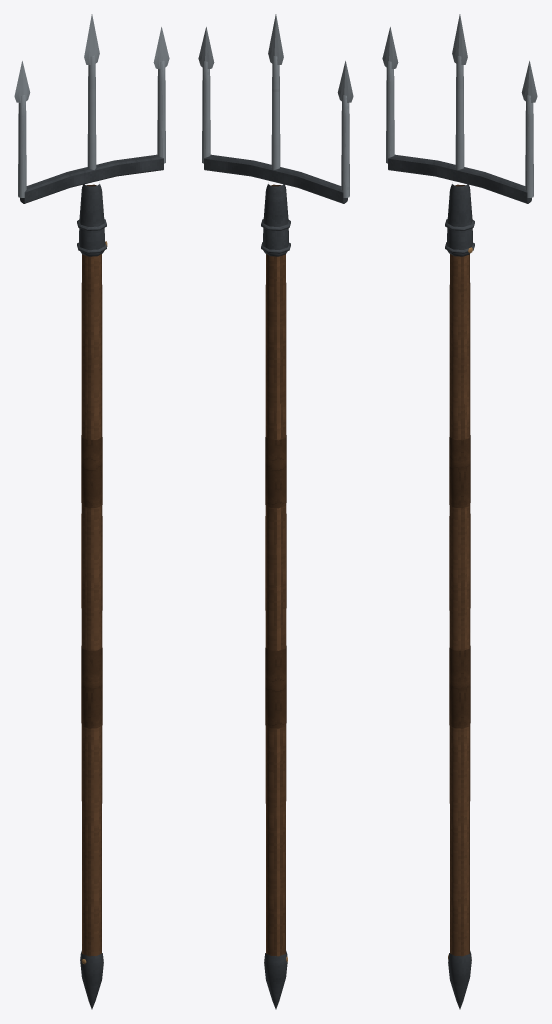
The model's file is trident.lod2.glb.
The picture shows the model from 3 angles, left to right: view 1: azimuth 30°, elevation 25°; view 2: azimuth 150°, elevation 25°; view 3: azimuth 330°, elevation 25°; orthographic projection.
Parts seen in each view (by area): view 1: wood / oiled hardwood, darksteel / oil-blackened fittings, steel / forged blade steel, leather / oiled leather wrap; view 2: wood / oiled hardwood, darksteel / oil-blackened fittings, steel / forged blade steel, leather / oiled leather wrap; view 3: wood / oiled hardwood, darksteel / oil-blackened fittings, steel / forged blade steel, leather / oiled leather wrap.
Boxes of the visible parts, x1,y1,x2,y2 form: wood / oiled hardwood: (81,184,102,956); darksteel / oil-blackened fittings: (20,154,163,1009); steel / forged blade steel: (14,14,169,197); leather / oiled leather wrap: (81,435,102,728); wood / oiled hardwood: (265,184,286,956); darksteel / oil-blackened fittings: (204,154,347,1009); steel / forged blade steel: (198,14,353,197); leather / oiled leather wrap: (265,435,286,728); wood / oiled hardwood: (449,184,470,956); darksteel / oil-blackened fittings: (388,154,531,1009); steel / forged blade steel: (382,14,537,197); leather / oiled leather wrap: (449,435,470,728).
Bounding box in the file's own units: 0.3341 × 2.05 × 0.0582.
Materials: 5 (4 with a texture image).
